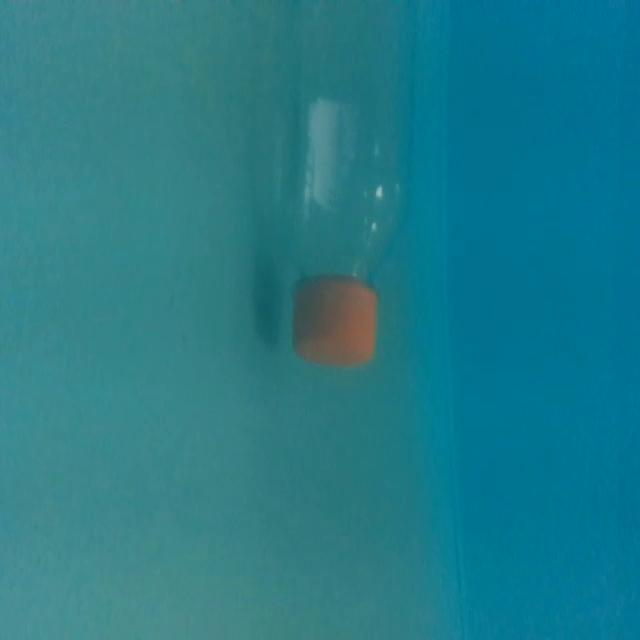plastic bottle: (257, 0, 417, 365)
